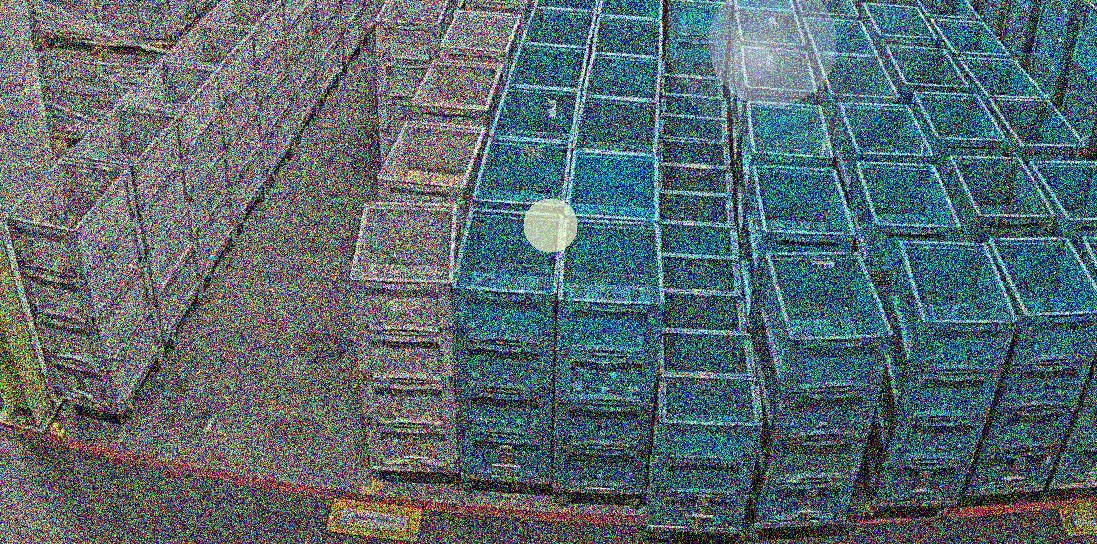4G: (5, 156, 164, 416), (349, 201, 459, 472)
B4: (862, 235, 1015, 506), (749, 252, 894, 524), (967, 238, 1097, 493), (555, 219, 667, 491), (453, 209, 562, 481)
B8: (646, 327, 765, 528)
